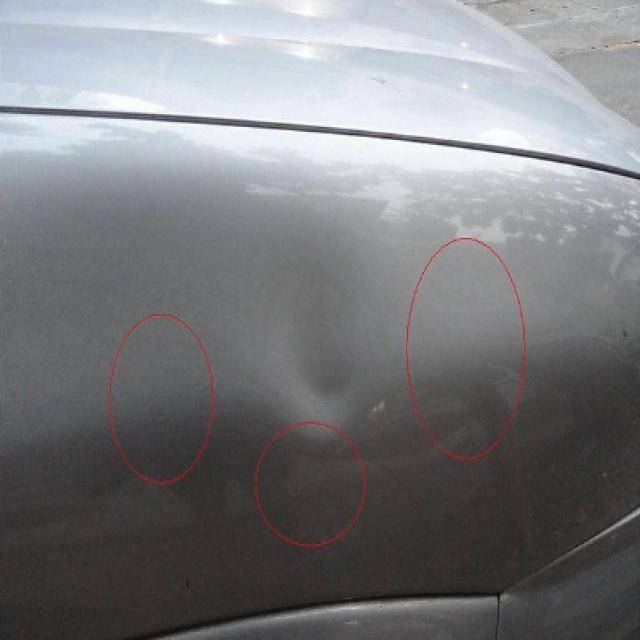dents: (292, 324, 373, 423)
